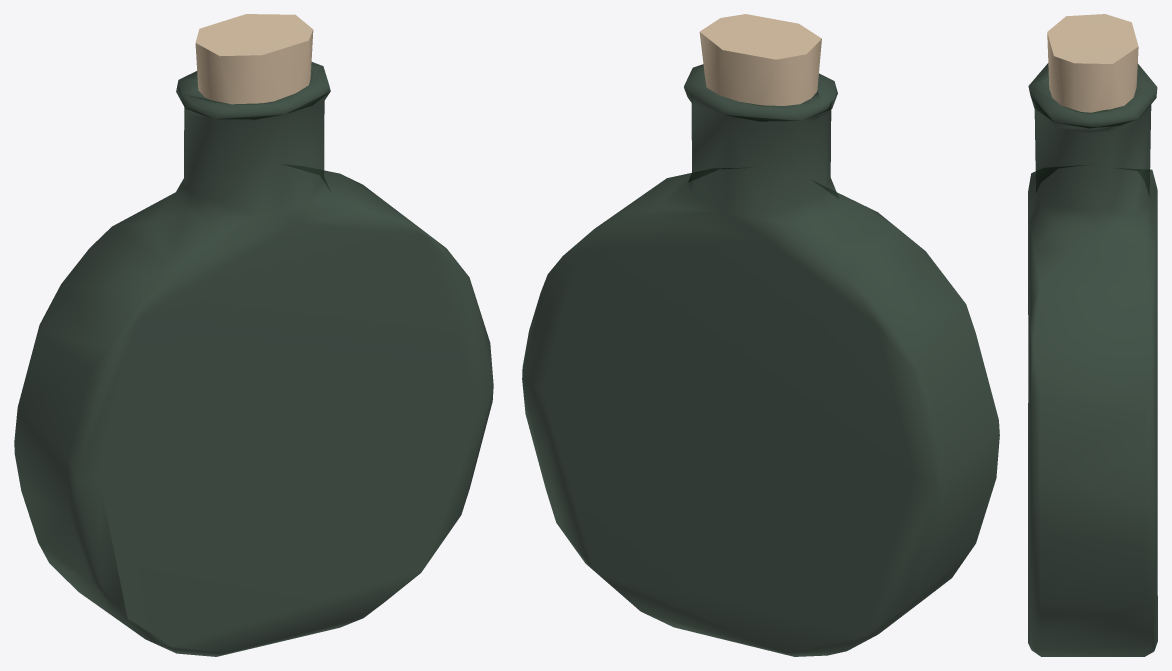
3 views of the same model, side by side, from view 1: azimuth 30°, elevation 25°; view 2: azimuth 150°, elevation 25°; view 3: azimuth 270°, elevation 25° (orthographic).
Visible parts, largest first — view 1: GlassBottle.001; view 2: GlassBottle.001; view 3: GlassBottle.001.
Part boxes in pixels (x1,y1,x2,y2): GlassBottle.001: (14,14,493,656); GlassBottle.001: (522,14,999,656); GlassBottle.001: (1028,14,1157,656).
Size of the model in its own units: 0.2316 by 0.3056 by 0.0618.
2 materials, 2 textured.
